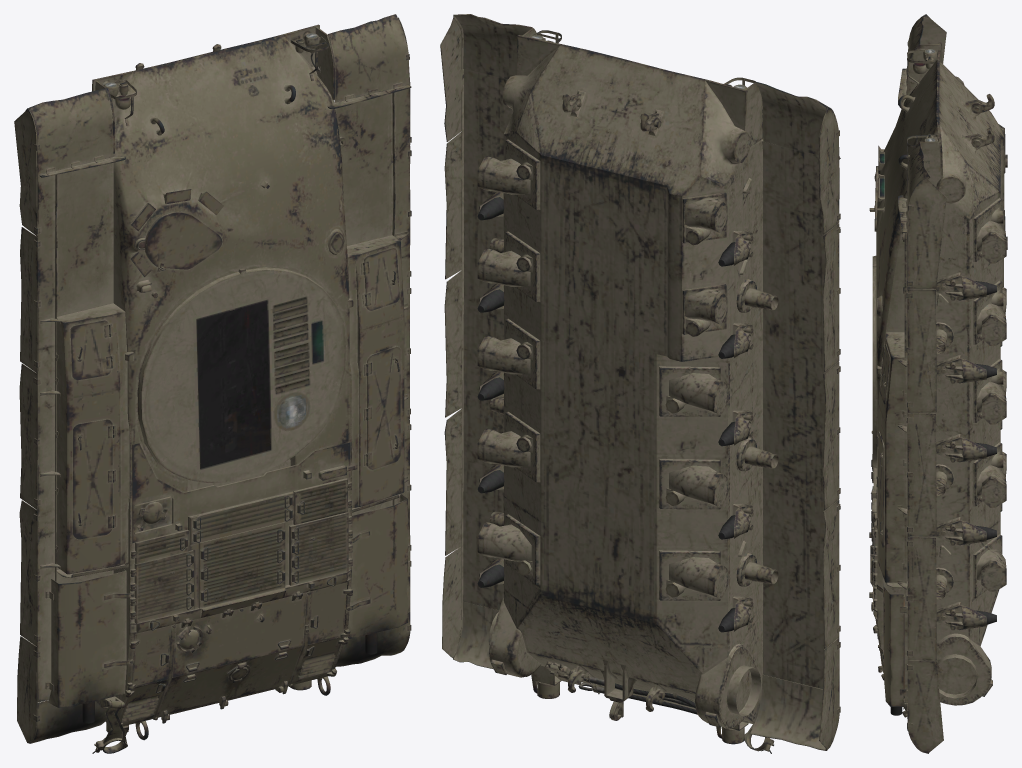
File: Hull.glb
3 views of the same model, side by side, from view 1: azimuth 30°, elevation 25°; view 2: azimuth 150°, elevation 25°; view 3: azimuth 270°, elevation 25° (orthographic). The views are drawn at different scales.
Visible parts, largest first — view 1: set_0_group_0; view 2: set_0_group_0; view 3: set_0_group_0.
Part boxes in pixels (x1,y1,x2,y2): set_0_group_0: [14, 14, 411, 753]; set_0_group_0: [440, 14, 840, 753]; set_0_group_0: [869, 14, 1007, 753].
Bounding box in the file's own units: 3.62 × 6.1 × 1.27.
Materials: 1 (1 with a texture image).
